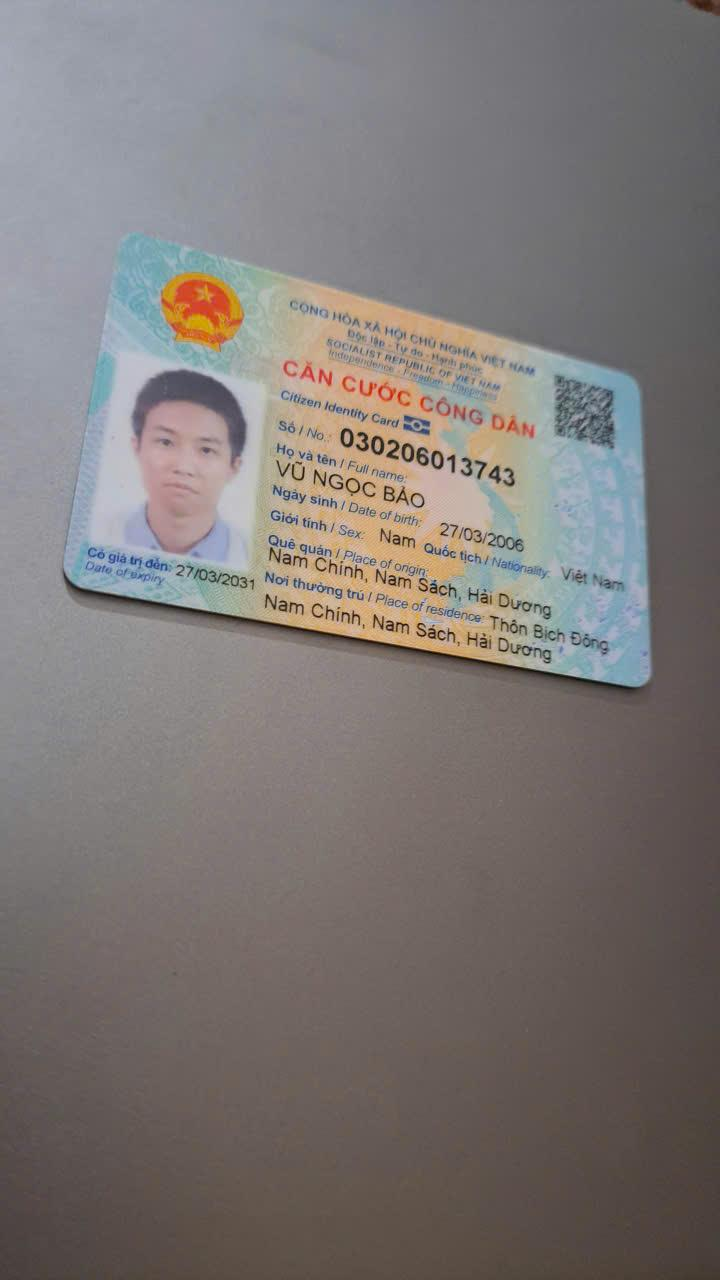cccd: (52, 225, 660, 700)
